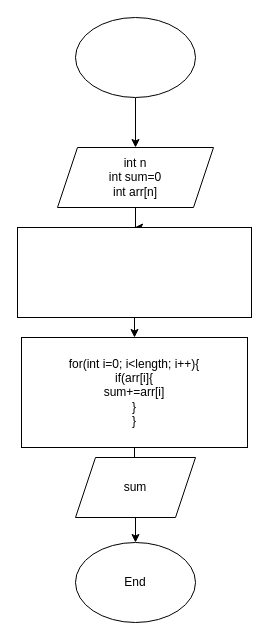
This 269x640 diagram has some shape labels left out. Here are the shapes that lost their labels. From the top down, the centre of each, then its label:
the point at 135,57: Start
the point at 134,272: for(int i=0; i<n; i++){ arr[i]= giá trị người dùng nhập }
